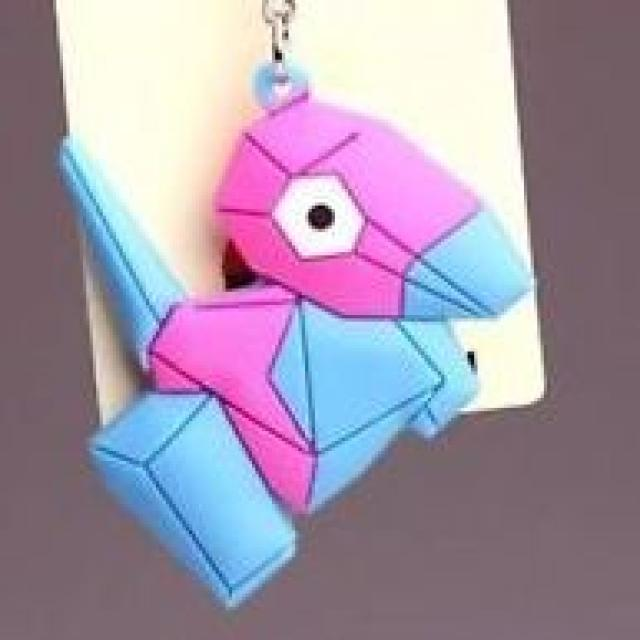Porygon: (76, 88, 482, 506)
